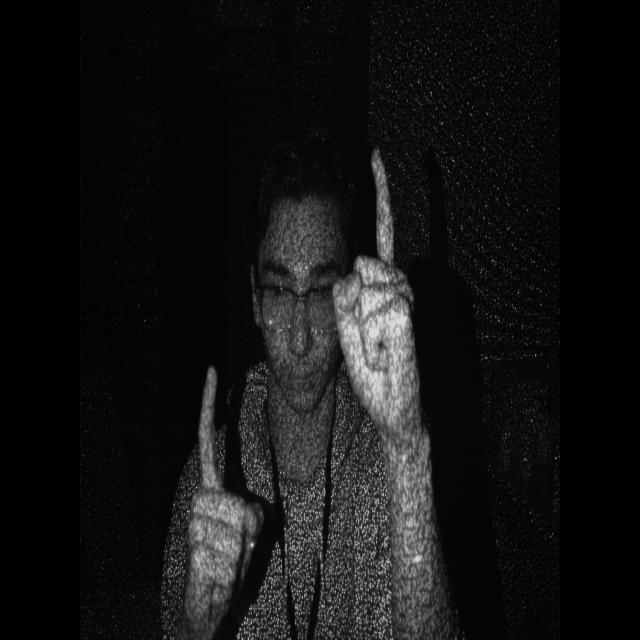STARS: (177, 335, 263, 640), (334, 140, 418, 448)
